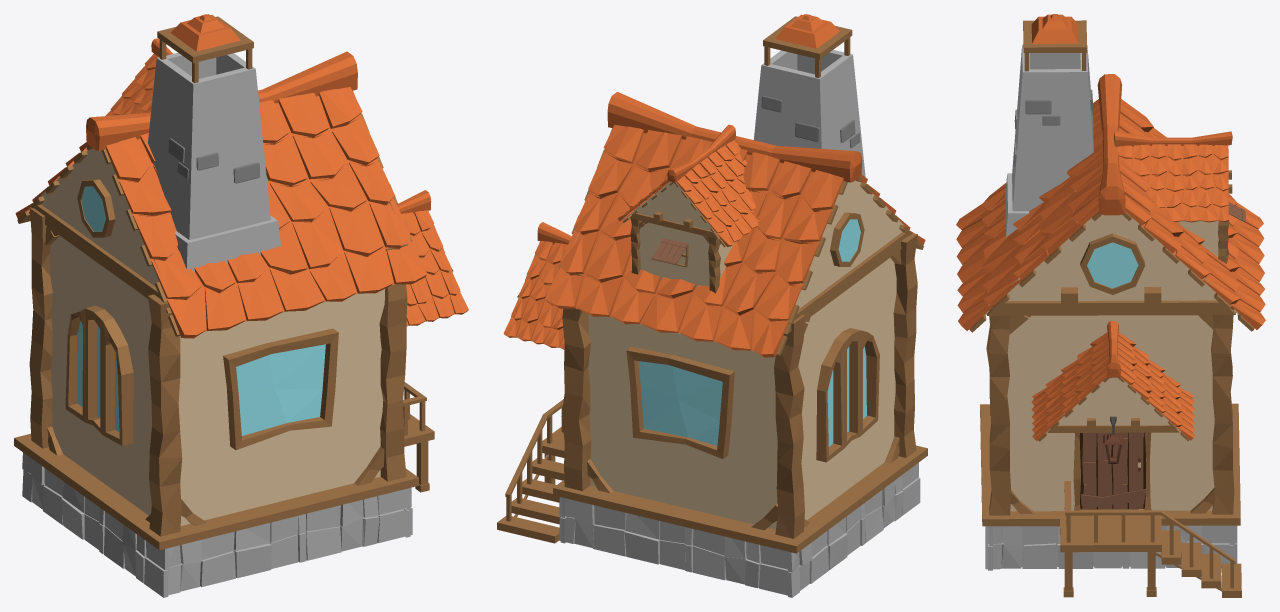
The model's file is House4.fbx.
3 renders of one model, left to right at view 1: azimuth 30°, elevation 25°; view 2: azimuth 150°, elevation 25°; view 3: azimuth 270°, elevation 25°, orthographic. The views are drawn at different scales.
Visible parts, largest first — view 1: House4; view 2: House4; view 3: House4.
Part boxes in pixels (bbox=[...]): House4: bbox=[14, 14, 468, 597]; House4: bbox=[497, 14, 927, 597]; House4: bbox=[956, 14, 1265, 597].
Size of the model in its own units: 2745 by 3840 by 2240.
